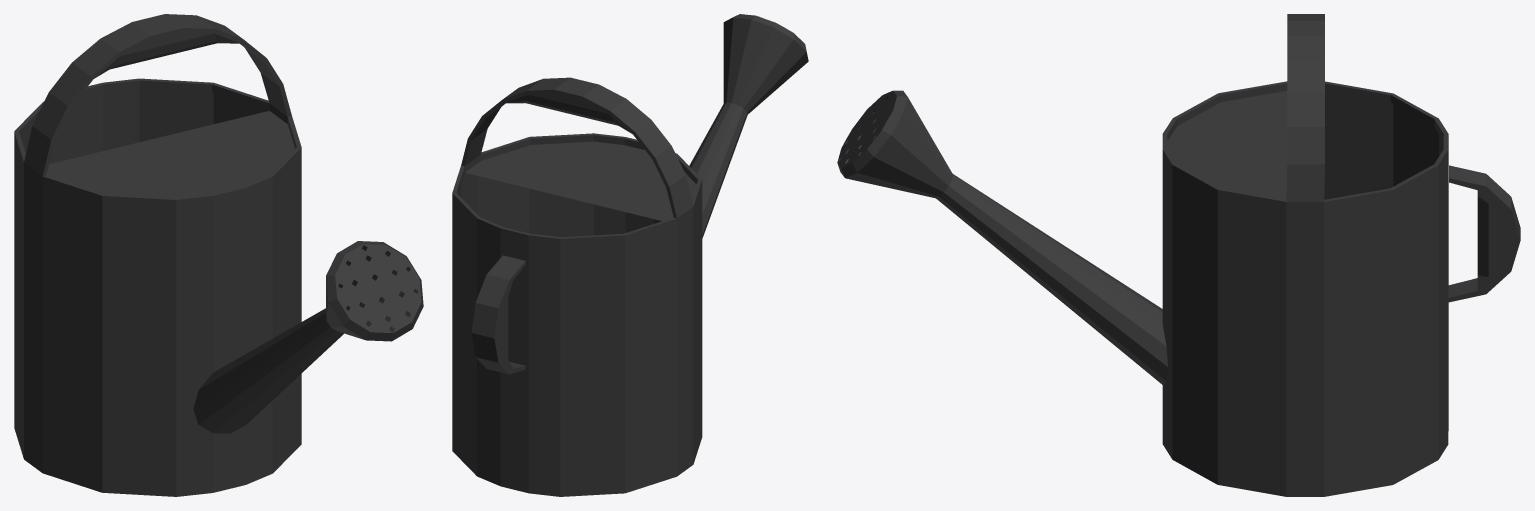
Rendered from Gardening Shower.fbx.
3 renders of one model, left to right at view 1: azimuth 30°, elevation 25°; view 2: azimuth 150°, elevation 25°; view 3: azimuth 270°, elevation 25°, orthographic. The views are drawn at different scales.
Parts seen in each view (by area): view 1: Gardening Shower; view 2: Gardening Shower; view 3: Gardening Shower.
Boxes of the visible parts, x1=… form: Gardening Shower: x1=14, y1=14, x2=423, y2=496; Gardening Shower: x1=452, y1=14, x2=808, y2=496; Gardening Shower: x1=837, y1=14, x2=1520, y2=496.
Size of the model in its own units: 32.62 by 51.46 by 78.05.
